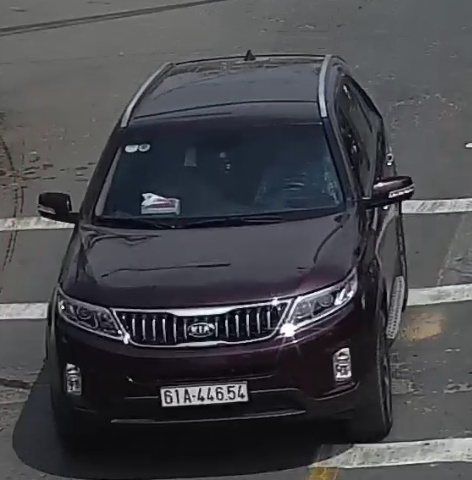vehicle plate: (159, 371, 256, 416)
